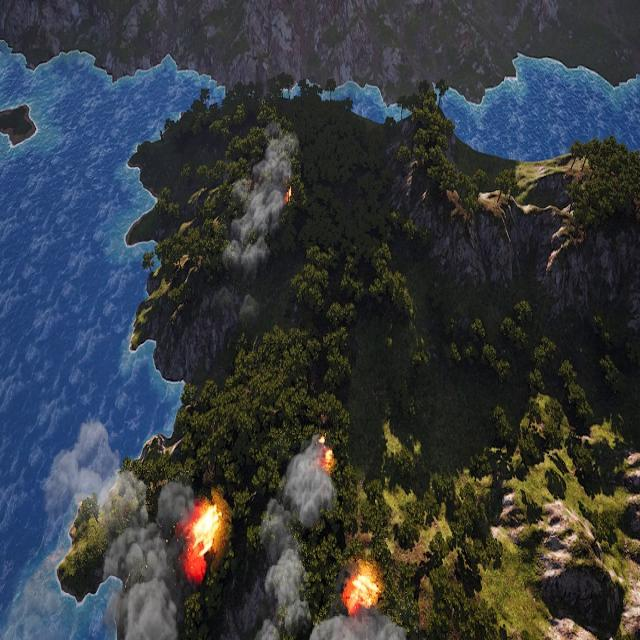fire: (185, 499, 222, 576), (342, 568, 380, 616), (317, 445, 334, 472), (285, 185, 293, 202)
smoke: (5, 420, 197, 640), (207, 443, 414, 640), (223, 129, 296, 278)
